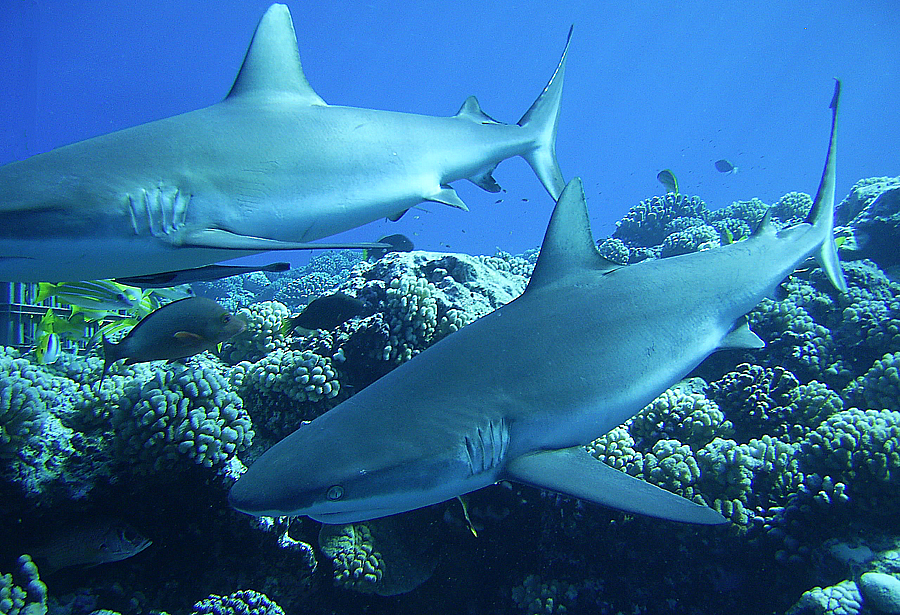Carcharhinus_amblyrhynchos: (222, 184, 857, 544), (1, 1, 572, 278)
